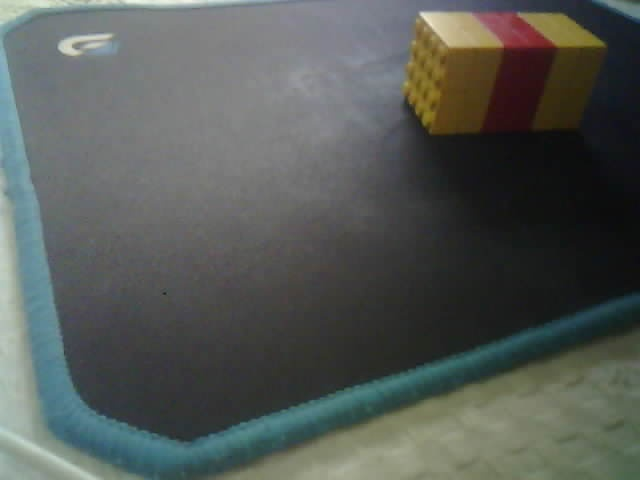lego: (400, 10, 606, 136)
